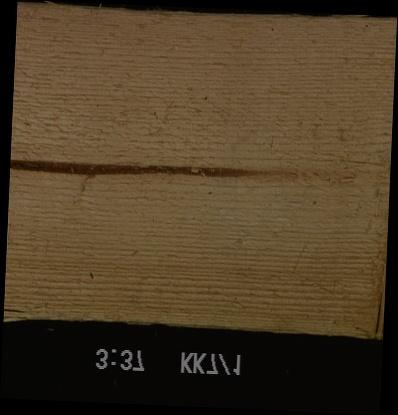split: (2, 306, 27, 314)
